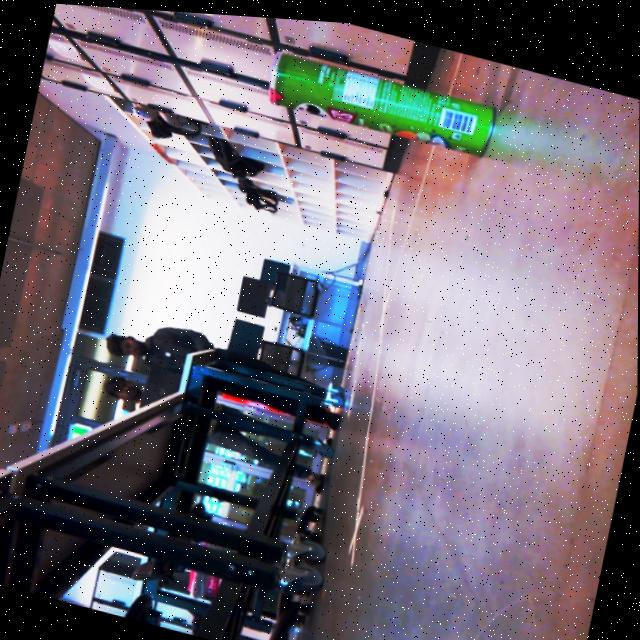greenpringles: (245, 36, 513, 162)
